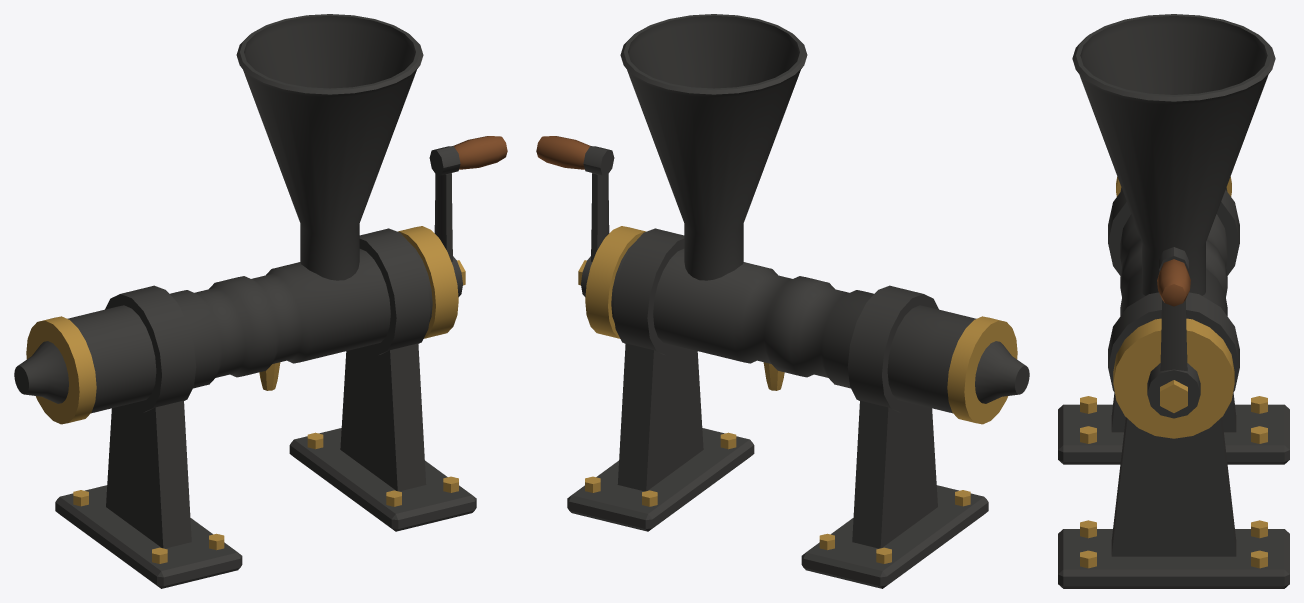
The model's file is oil_press.glb.
The picture shows the model from 3 angles, left to right: view 1: azimuth 30°, elevation 25°; view 2: azimuth 150°, elevation 25°; view 3: azimuth 270°, elevation 25°; orthographic projection. The views are drawn at different scales.
Parts seen in each view (by area): view 1: frame, barrel, hopper, crank; view 2: frame, barrel, hopper, crank; view 3: frame, hopper, barrel, crank.
Part boxes in pixels (<box>): frame: <box>55,228,476,588</box>; barrel: <box>14,226,458,424</box>; hopper: <box>236,14,423,280</box>; crank: <box>429,136,507,297</box>; frame: <box>567,228,988,588</box>; barrel: <box>585,226,1029,424</box>; hopper: <box>620,14,807,280</box>; crank: <box>536,136,614,297</box>; frame: <box>1058,190,1289,588</box>; hopper: <box>1072,14,1275,295</box>; barrel: <box>1113,176,1234,438</box>; crank: <box>1147,247,1200,418</box>.
Size of the model in its own units: 0.341 by 0.3 by 0.13.
